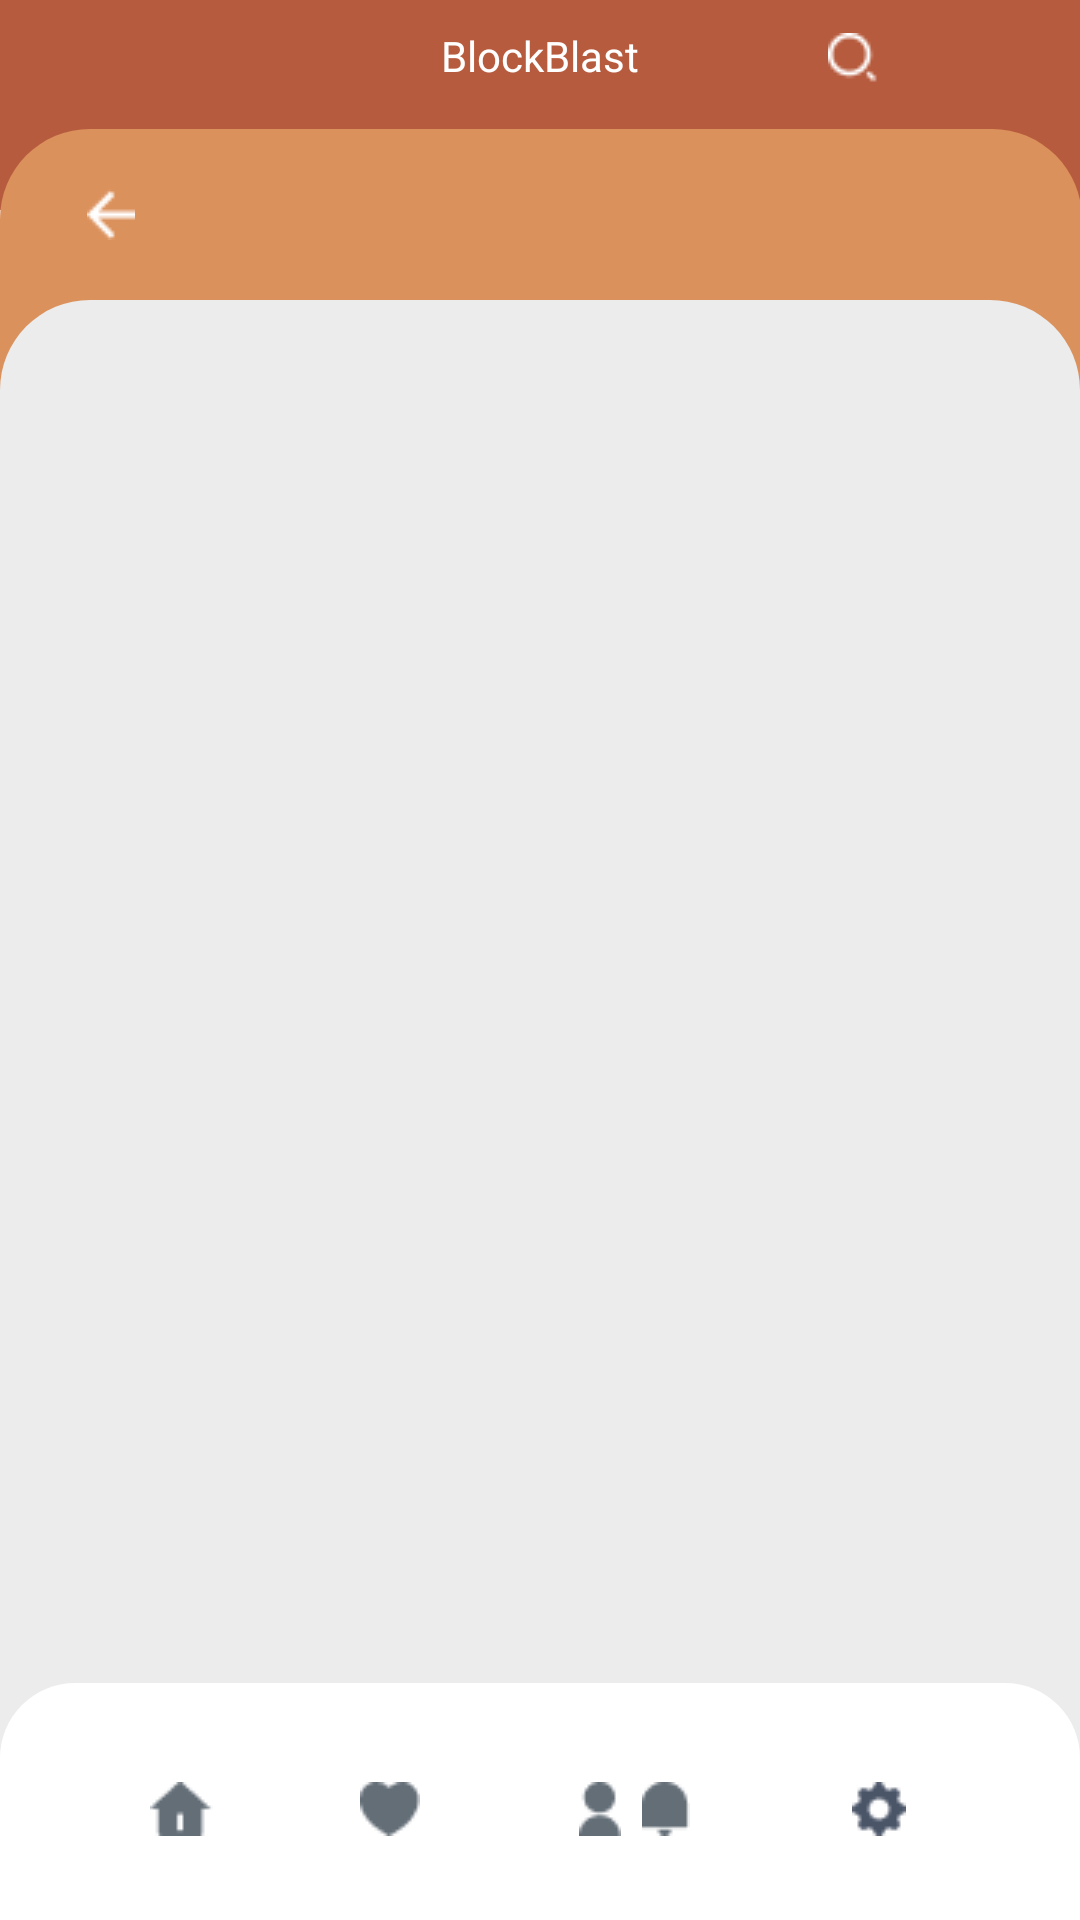

Screen size 1080 × 1920. Icon name, then its center in pixels as (x=x, y=y):
back: (x=111, y=215)
heart: (x=390, y=1809)
home: (x=180, y=1809)
notification: (x=665, y=1809)
profile: (x=600, y=1809)
search: (x=852, y=57)
setting: (x=879, y=1809)
